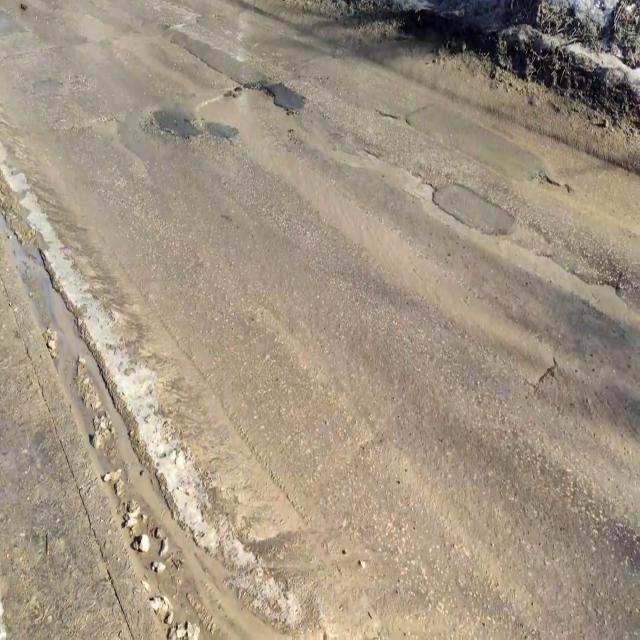Pothole: (188, 71, 282, 137)
